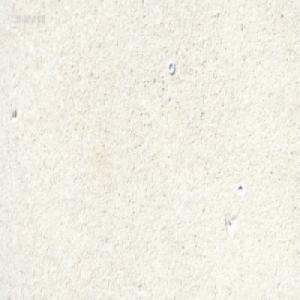Washer: (167, 60, 174, 74)
